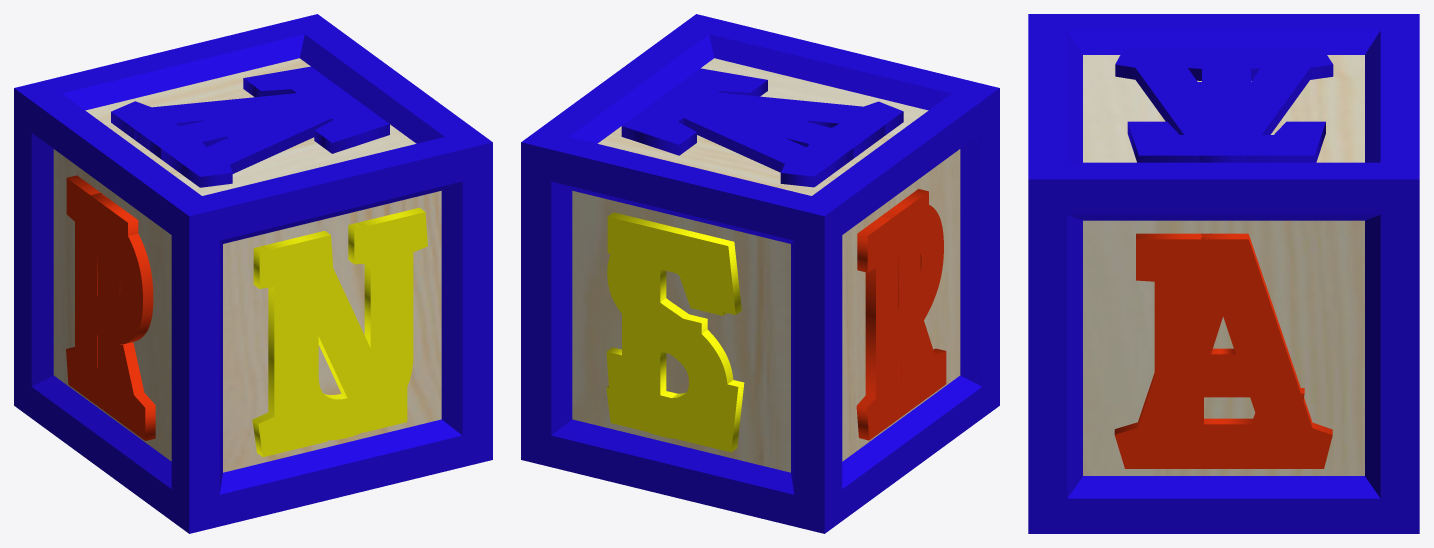
File: blocks.glb
3 views of the same model, side by side, from view 1: azimuth 30°, elevation 25°; view 2: azimuth 150°, elevation 25°; view 3: azimuth 270°, elevation 25° (orthographic). The views are drawn at different scales.
Visible parts, largest first — view 1: bvowelcube, bconsonantcube; view 2: bvowelcube, bconsonantcube; view 3: bvowelcube, bconsonantcube.
Boxes of the visible parts, <box> form: bvowelcube: <box>14,14,492,533</box>; bconsonantcube: <box>66,66,424,457</box>; bvowelcube: <box>521,14,999,533</box>; bconsonantcube: <box>606,68,946,440</box>; bvowelcube: <box>1028,14,1419,533</box>; bconsonantcube: <box>1127,48,1325,468</box>.
Bounding box in the file's own units: 2 × 2 × 2.
4 materials, 1 textured.
